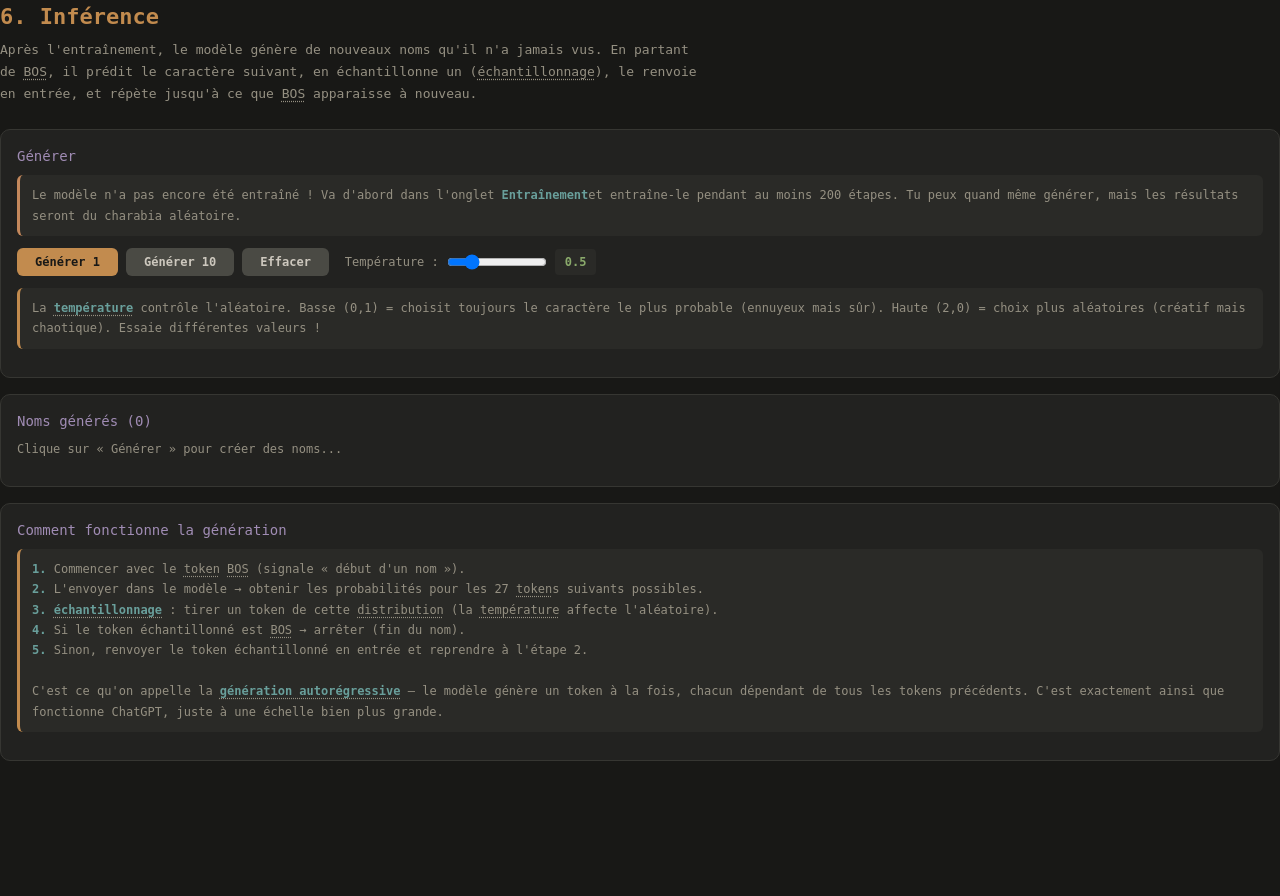
Test: InferencePage — stable keys (R-3) › les résultats générés ont des ids numériques uniques
# Générer 10 une première fois
Click the button "Générer 10" at (180, 262), box [126,248,234,276]
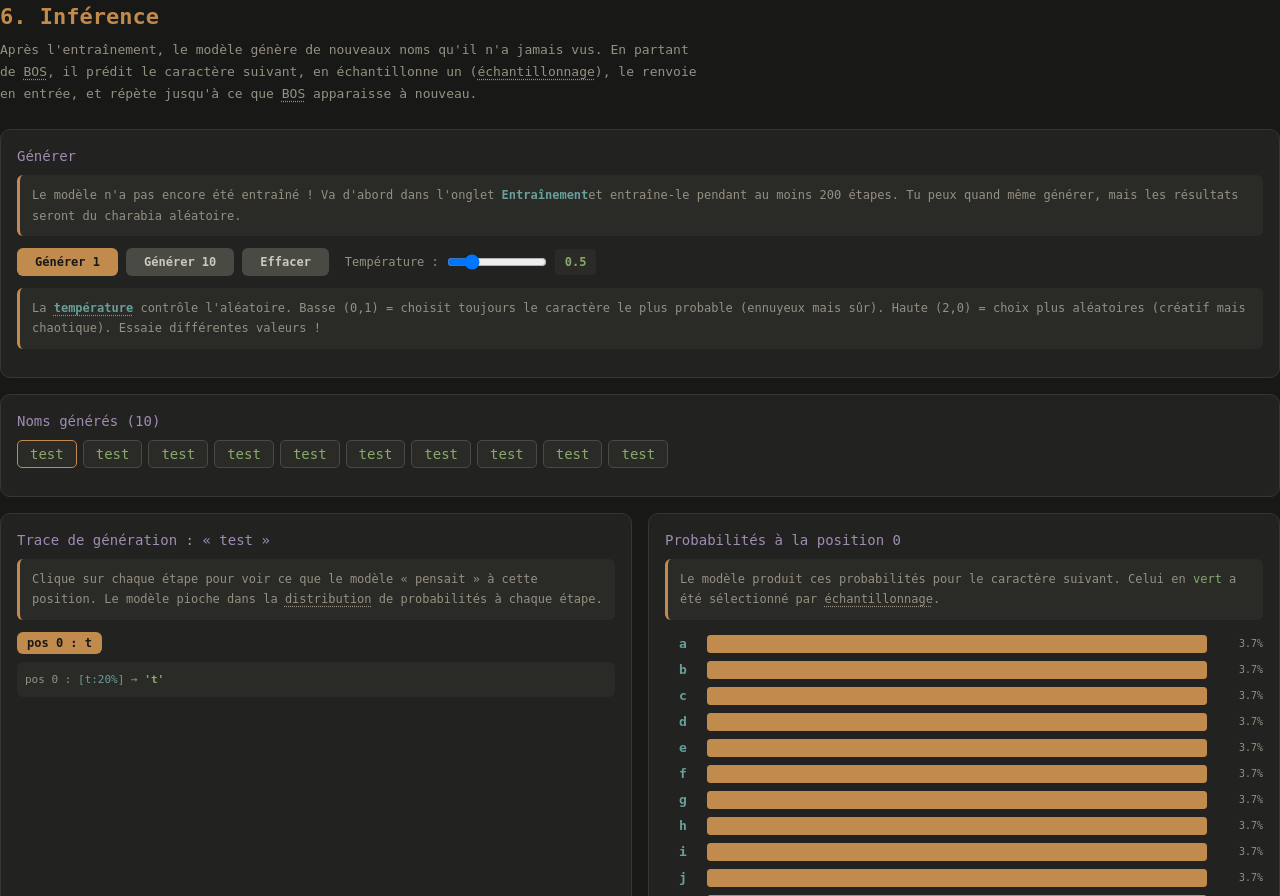
Expected: the number of buttons with class "gen-name" is 10
# Générer 10 de plus — aucun doublon de key (React avertirait)
Click the button "Générer 10" at (180, 262), box [126,248,234,276]
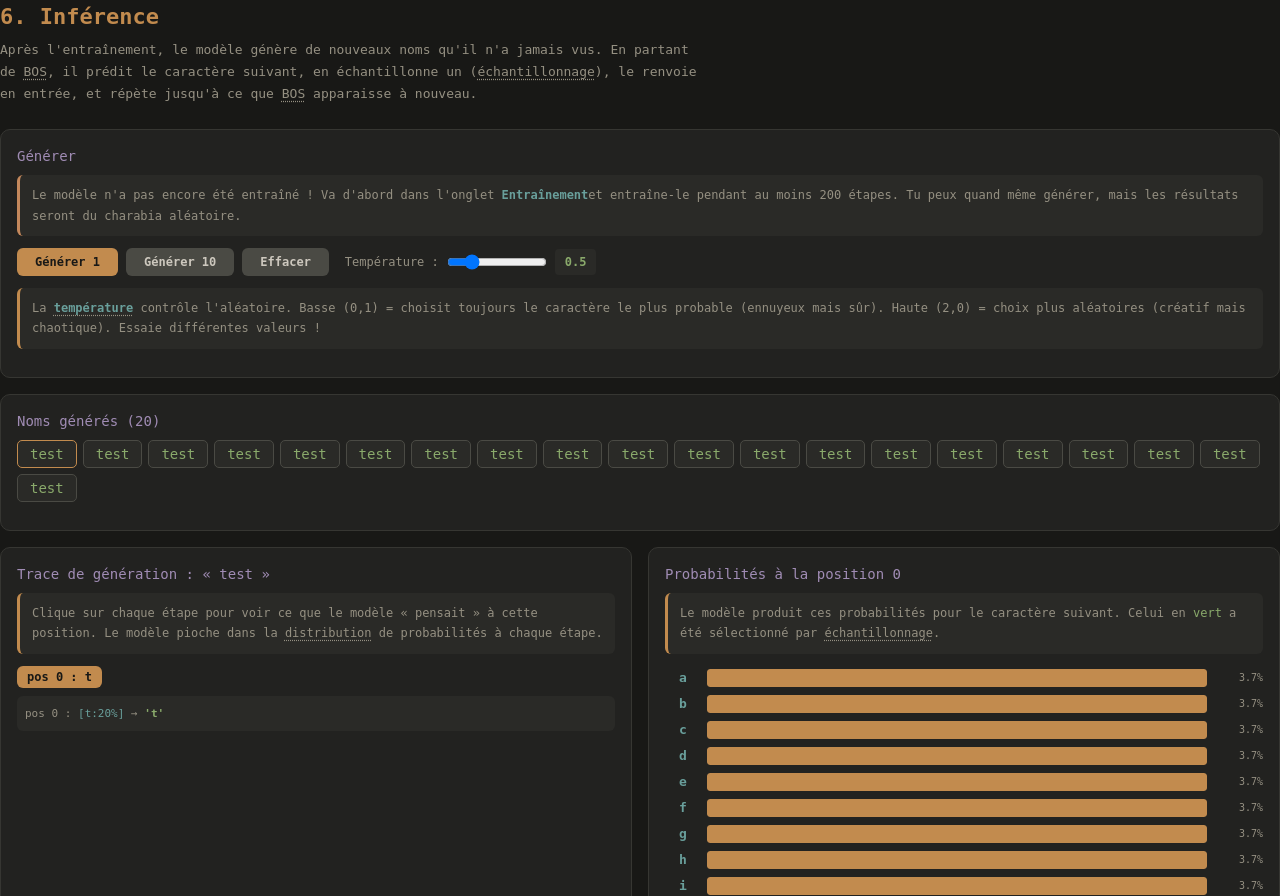
Expected: the number of buttons with class "gen-name" is 20
